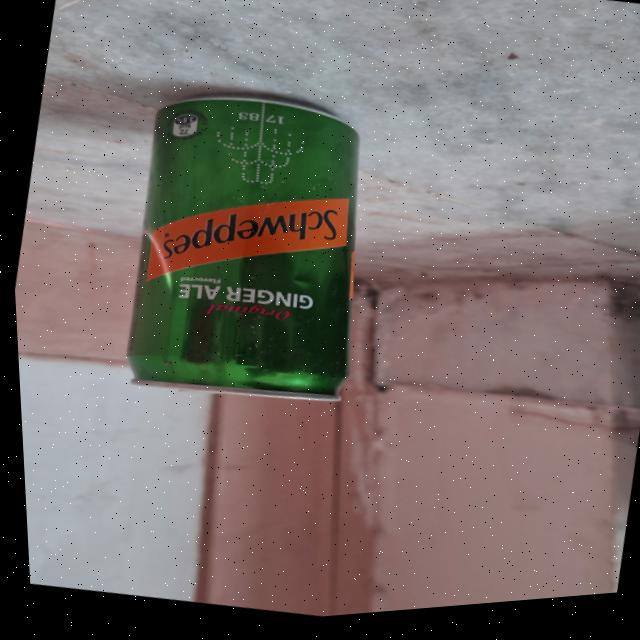Schweppes: (76, 63, 419, 439)
